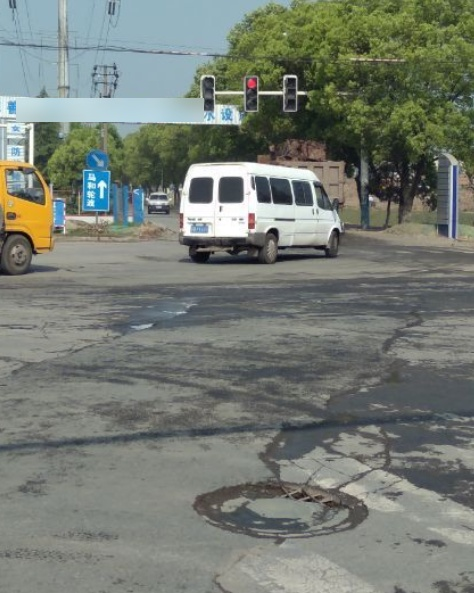broke: (193, 478, 369, 540)
